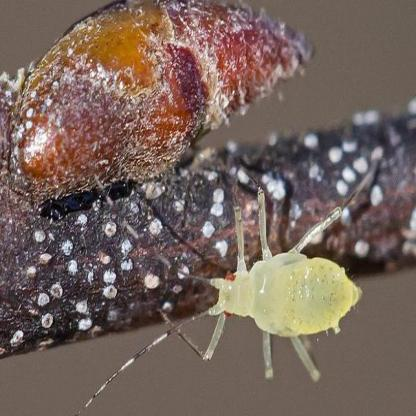aphid: (133, 172, 369, 386)
